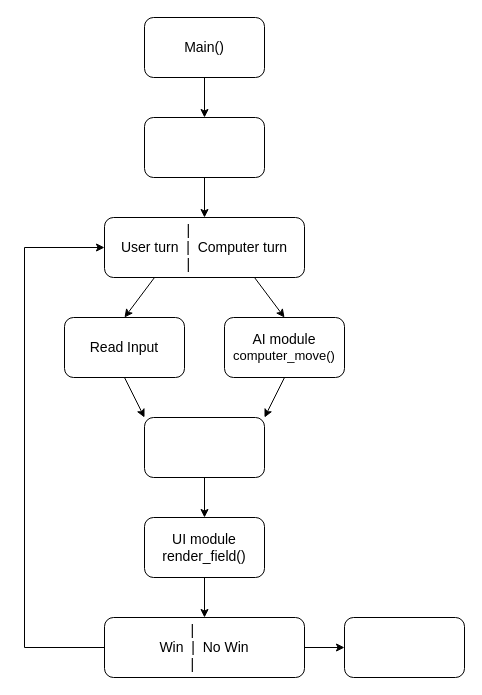
Some shapes in this 482 by 695 pixel diagram are drawn without their labels. The centre of each missing label's shape, as x and y in pixels:
"Finish" belongs at pixel 404 647.
"Game Loop" belongs at pixel 204 147.
"Game Module check_win()" belongs at pixel 204 447.
